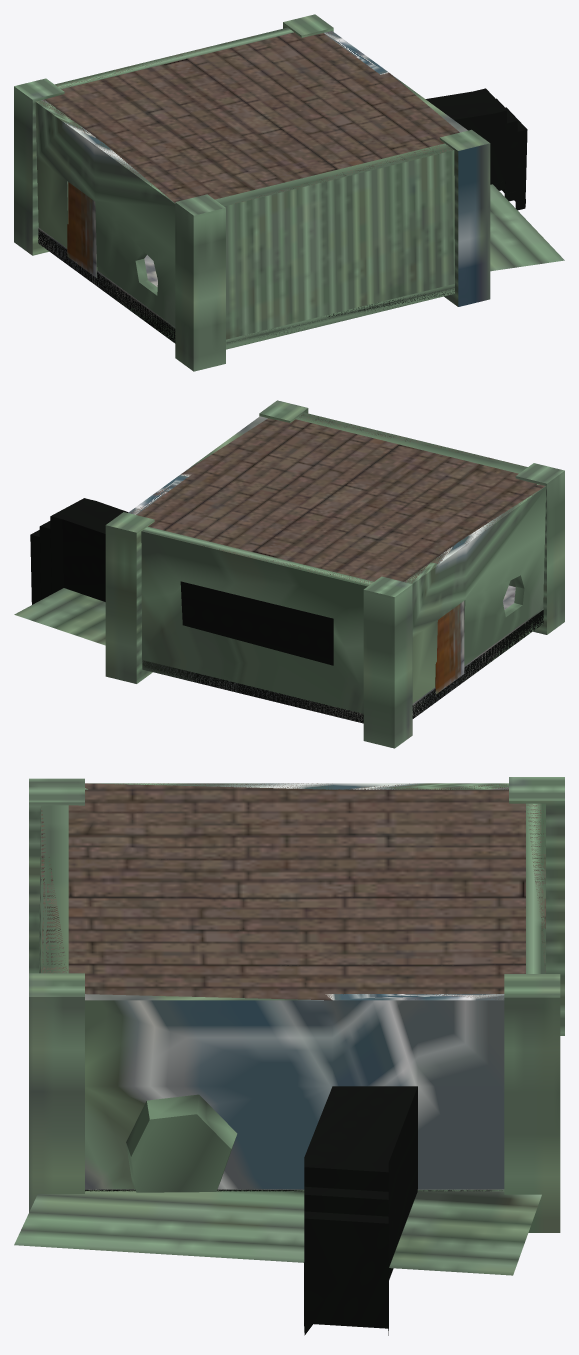
Rendered from house 1.fbx.
The picture shows the model from 3 angles, top to bottom: view 1: azimuth 30°, elevation 25°; view 2: azimuth 150°, elevation 25°; view 3: azimuth 270°, elevation 25°; orthographic projection. The views are drawn at different scales.
Parts seen in each view (by area): view 1: Cube; view 2: Cube; view 3: Cube.
Part boxes in pixels (bbox=[...]): Cube: bbox=[14, 14, 564, 371]; Cube: bbox=[14, 400, 564, 748]; Cube: bbox=[14, 777, 564, 1335].
Size of the model in its own units: 2702 by 969 by 1969.
